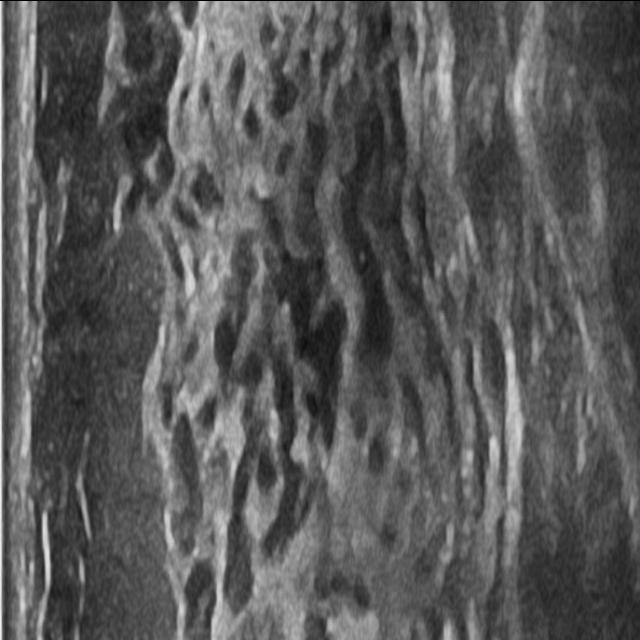Normal: (17, 19, 621, 623)
